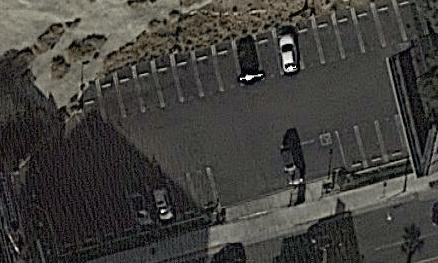parkingspot: (79, 0, 429, 147), (43, 162, 223, 260), (277, 111, 411, 189)
